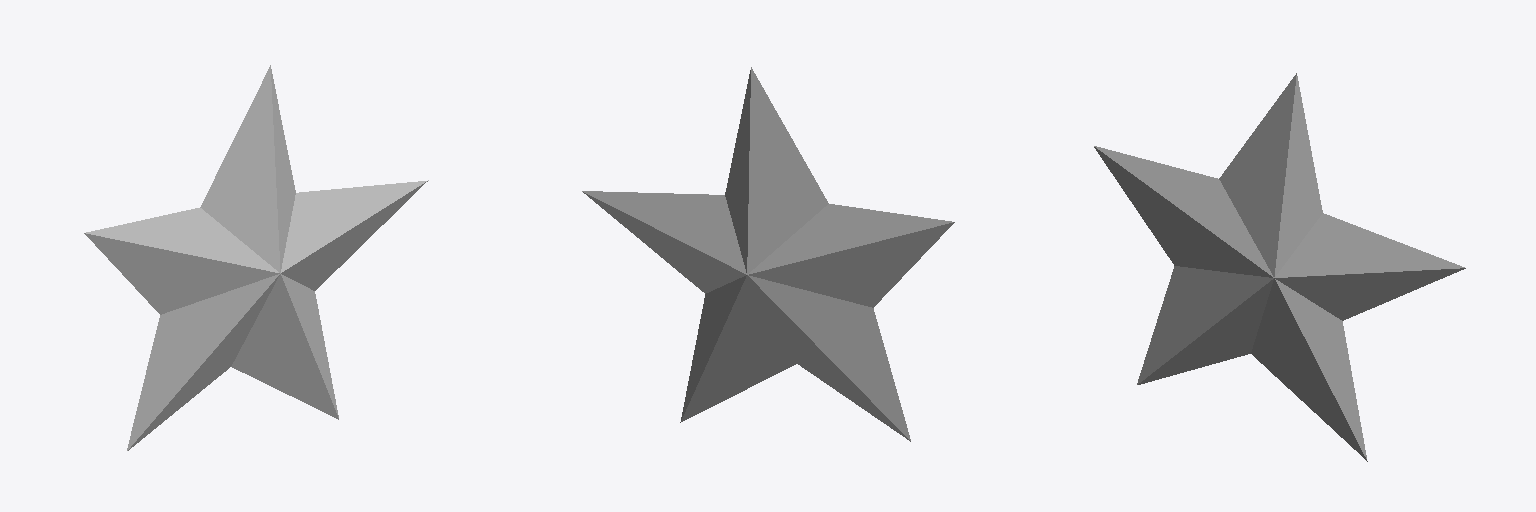
File: star.obj
The picture shows the model from 3 angles: view 1: azimuth 30°, elevation 25°; view 2: azimuth 150°, elevation 25°; view 3: azimuth 330°, elevation 25°; orthographic projection.
Bounding box in the file's own units: 3 × 2.97 × 0.436.